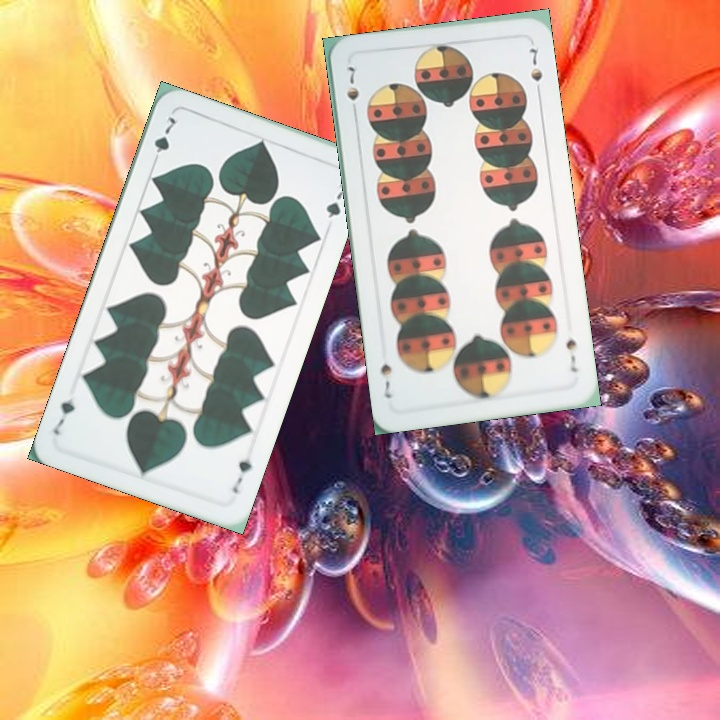G7: (148, 111, 179, 168), (228, 455, 255, 496)
S7: (343, 62, 362, 119), (561, 335, 580, 375)
